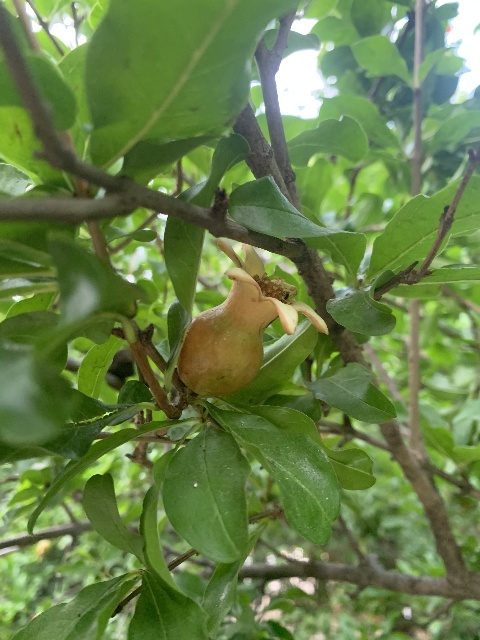early-fruit: (178, 237, 326, 397)
